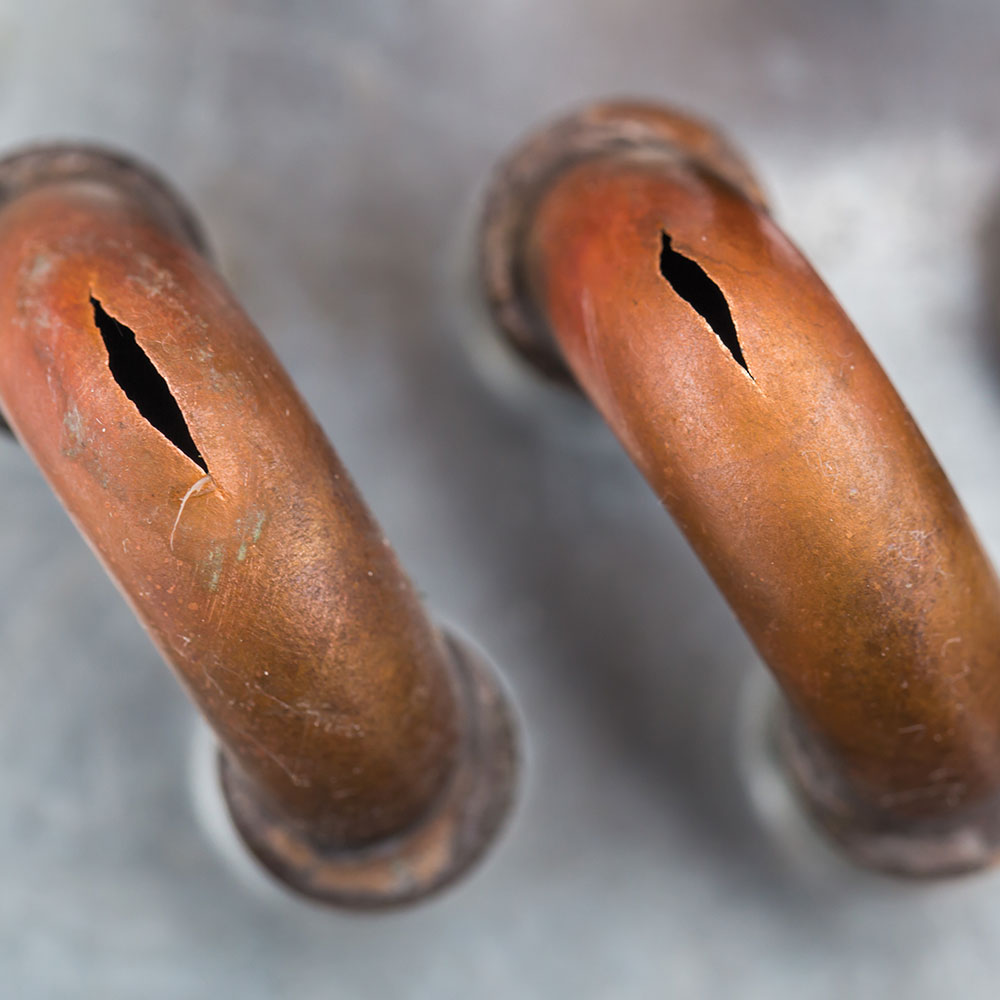rupture: (76, 281, 226, 495), (640, 212, 775, 402)
